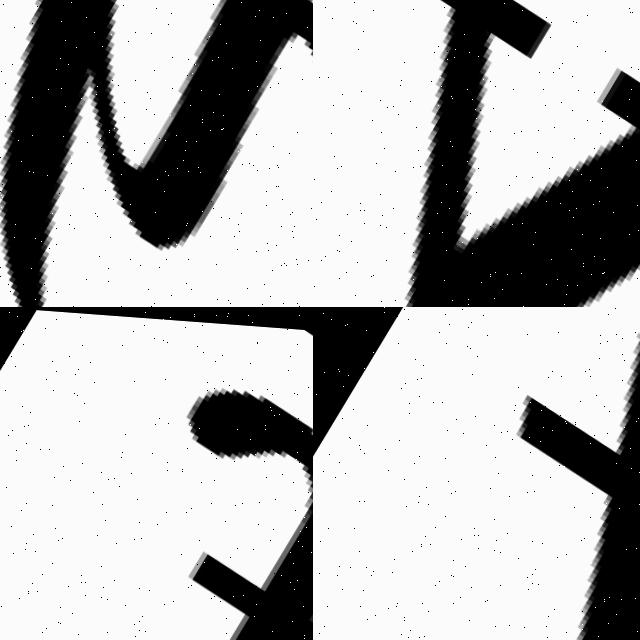F: (0, 336, 313, 640)
T: (334, 307, 640, 640)
Y: (313, 0, 640, 307), (0, 0, 313, 307)
